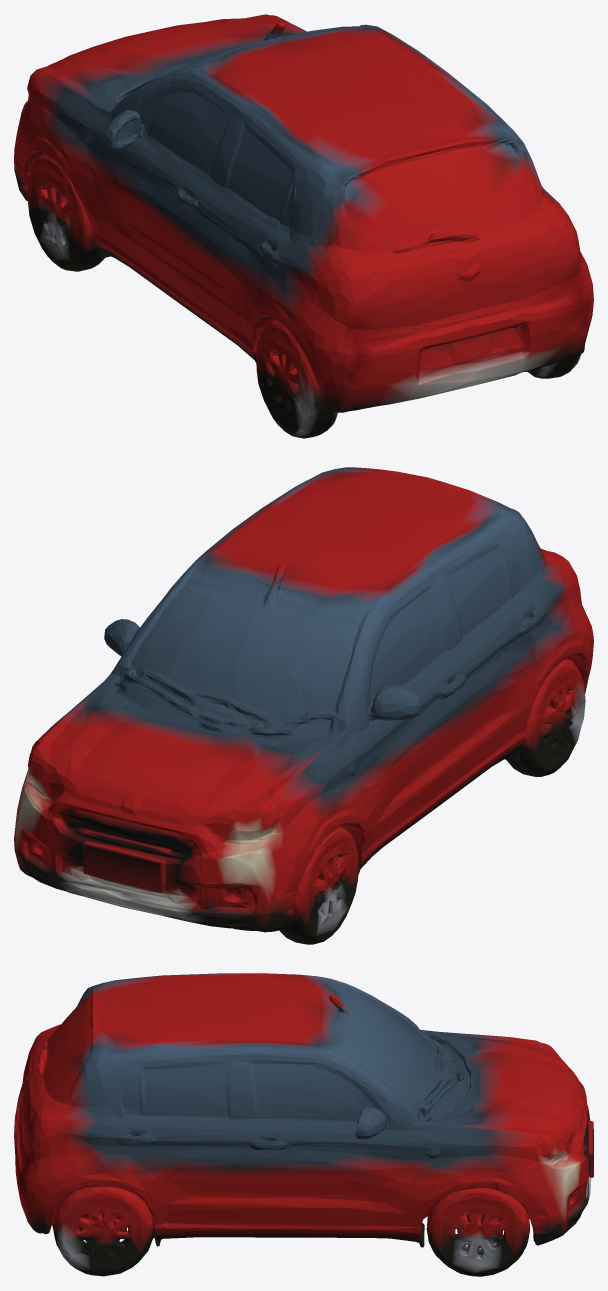
File: player_lod1.glb
The picture shows the model from 3 angles, top to bottom: view 1: azimuth 30°, elevation 25°; view 2: azimuth 150°, elevation 25°; view 3: azimuth 270°, elevation 25°; orthographic projection. The views are drawn at different scales.
Visible parts, largest first — view 1: world; view 2: world; view 3: world.
Part boxes in pixels (x1,y1,x2,y2): world: (14, 14, 593, 438); world: (14, 467, 593, 944); world: (14, 973, 593, 1276).
Bounding box in the file's own units: 88.41 × 75.32 × 172.
